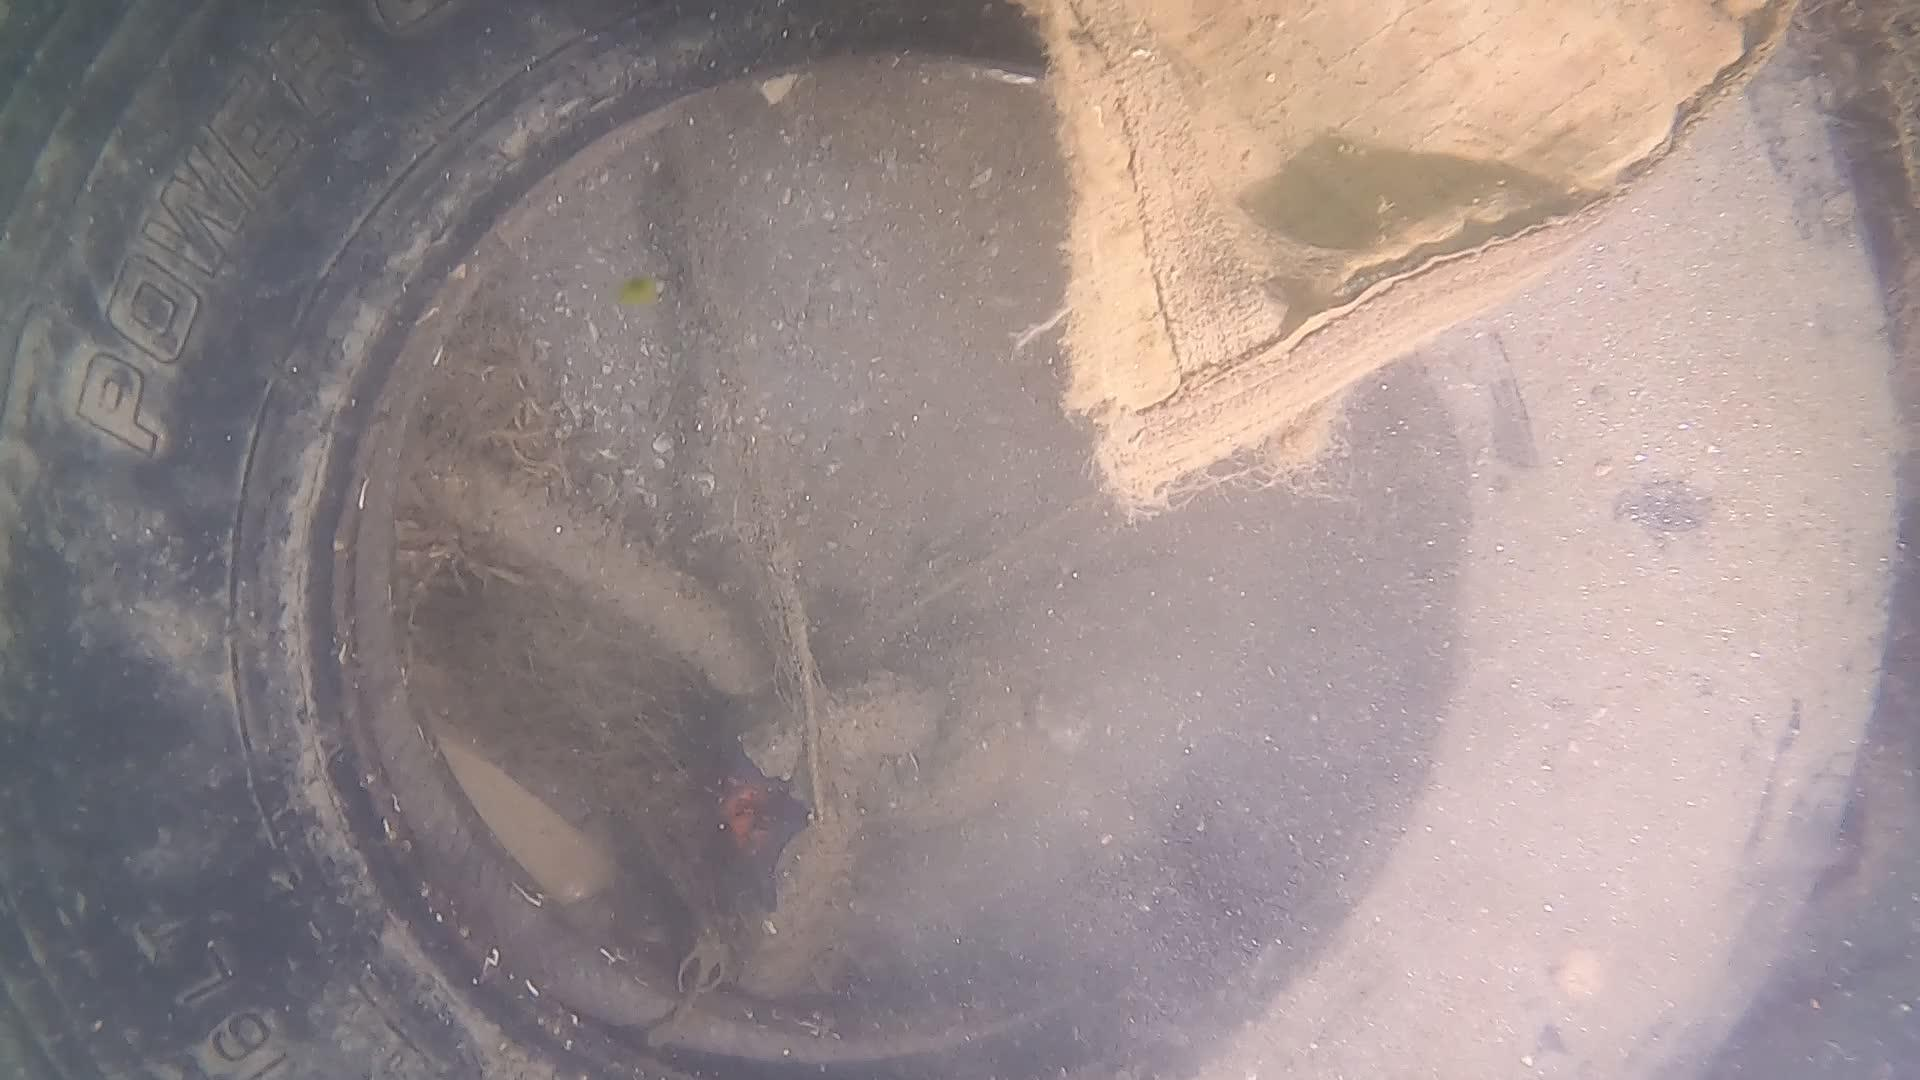tire: (0, 0, 1905, 1080)
